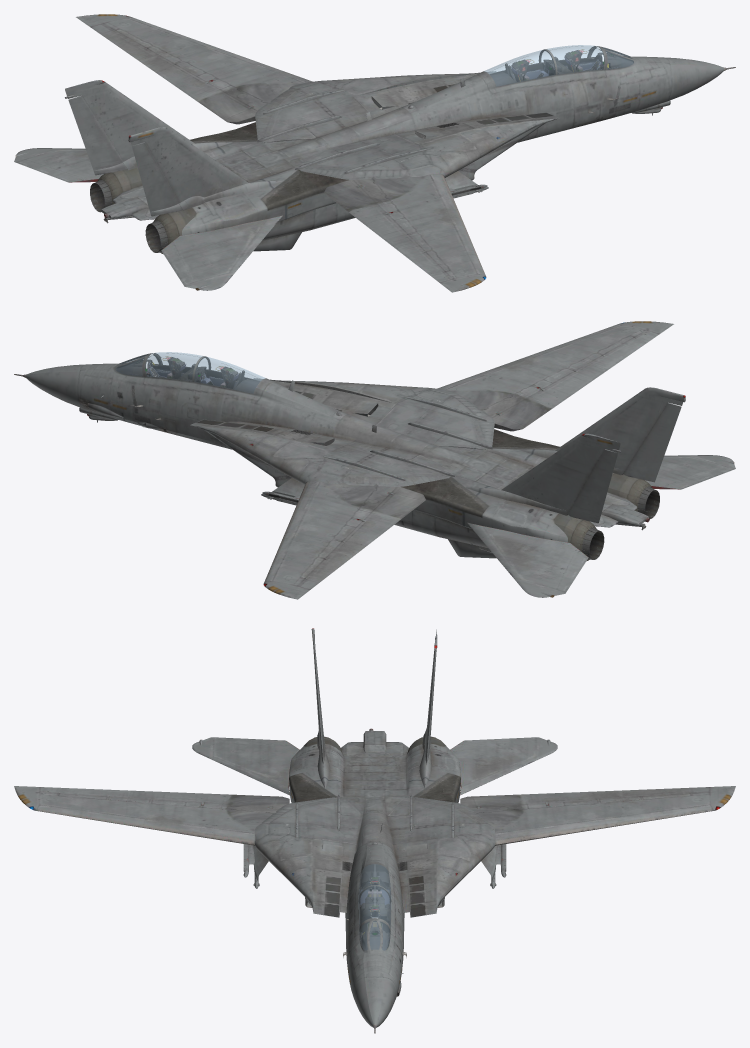
3 renders of one model, top to bottom at view 1: azimuth 30°, elevation 25°; view 2: azimuth 150°, elevation 25°; view 3: azimuth 270°, elevation 25°, orthographic. The views are drawn at different scales.
Visible parts, largest first — view 1: f14a-airframe_0, f14a-canopyFr_1, f14a-cockpit_2; view 2: f14a-airframe_0, f14a-canopyFr_1, f14a-cockpit_2; view 3: f14a-airframe_0, f14a-cockpit_2, f14a-canopyFr_1.
Boxes of the visible parts, <box> form: f14a-airframe_0: <box>14,14,735,292</box>; f14a-canopyFr_1: <box>484,45,633,86</box>; f14a-cockpit_2: <box>488,46,633,86</box>; f14a-airframe_0: <box>14,321,735,599</box>; f14a-canopyFr_1: <box>116,352,265,393</box>; f14a-cockpit_2: <box>116,353,261,393</box>; f14a-airframe_0: <box>14,628,735,1033</box>; f14a-cockpit_2: <box>358,864,391,950</box>; f14a-canopyFr_1: <box>358,864,391,950</box>.
Bounding box in the file's own units: 192 × 45.4 × 195.
Materials: 3 (2 with a texture image).
